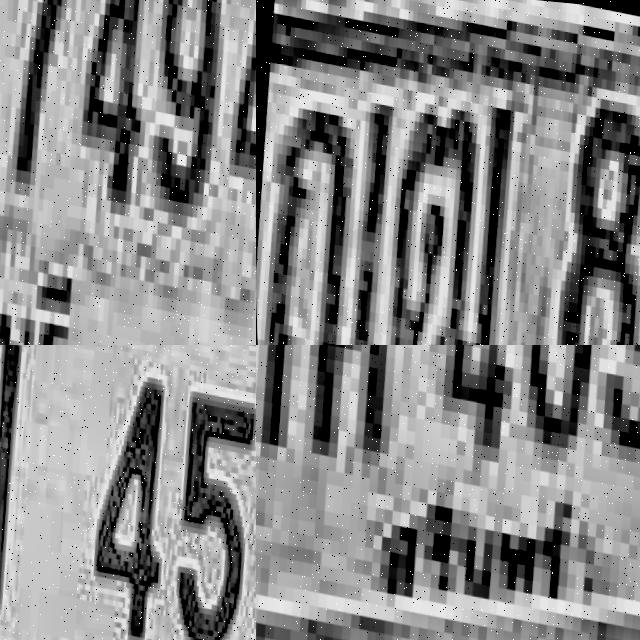license-plate: (256, 0, 640, 345), (256, 345, 640, 640), (0, 0, 256, 345), (0, 345, 256, 640)
